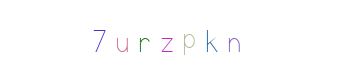7: (102, 0, 182, 80)
K: (139, 0, 219, 80)
N: (155, 0, 235, 80)
P: (132, 0, 212, 80)
R: (125, 0, 205, 80)
U: (114, 0, 194, 80)
Z: (126, 0, 206, 80)
